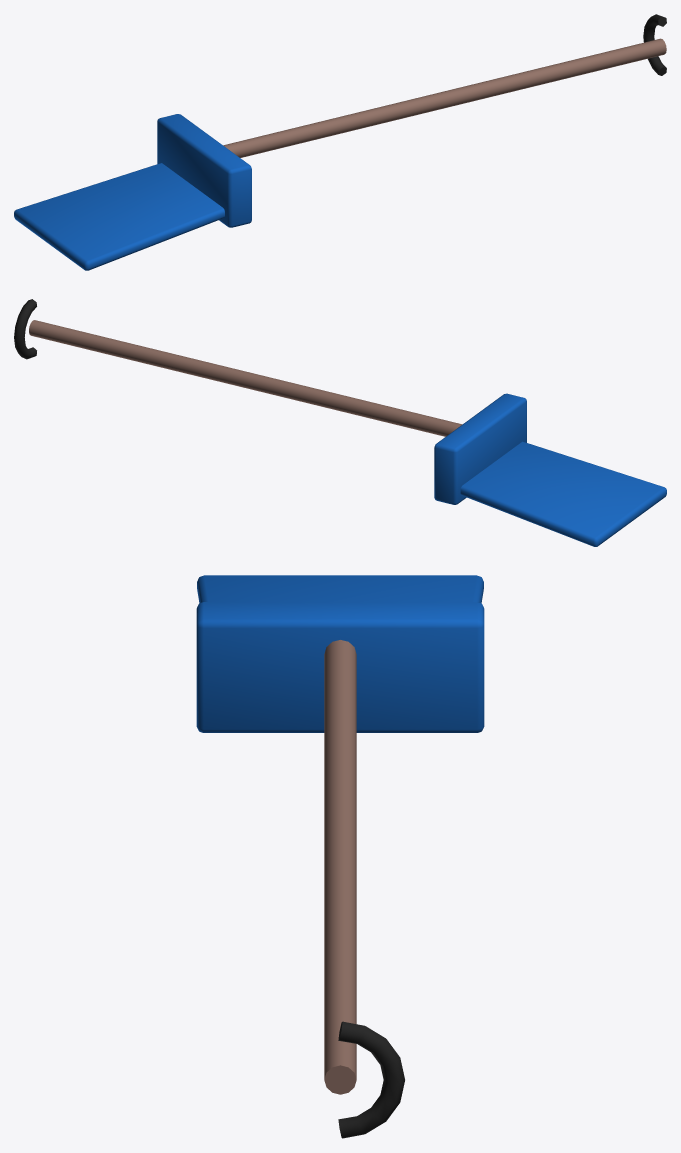
File: shovel.fbx
3 renders of one model, top to bottom at view 1: azimuth 30°, elevation 25°; view 2: azimuth 150°, elevation 25°; view 3: azimuth 270°, elevation 25°, orthographic. The views are drawn at different scales.
Visible parts, largest first — view 1: Snow Shovel; view 2: Snow Shovel; view 3: Snow Shovel.
Boxes of the visible parts, x1,y1,x2,y2 form: Snow Shovel: (14,14,666,270); Snow Shovel: (14,299,666,546); Snow Shovel: (196,575,484,1138).
Size of the model in its own units: 3.88 by 0.4773 by 0.8.
